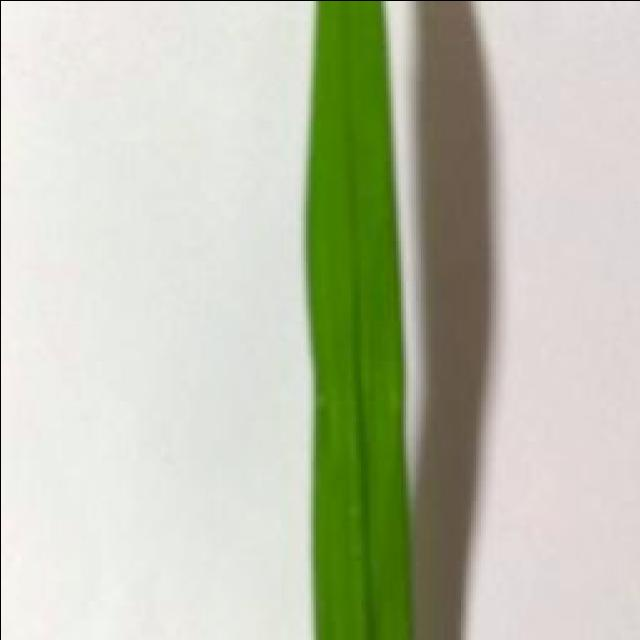Healthy: (304, 0, 415, 640)
